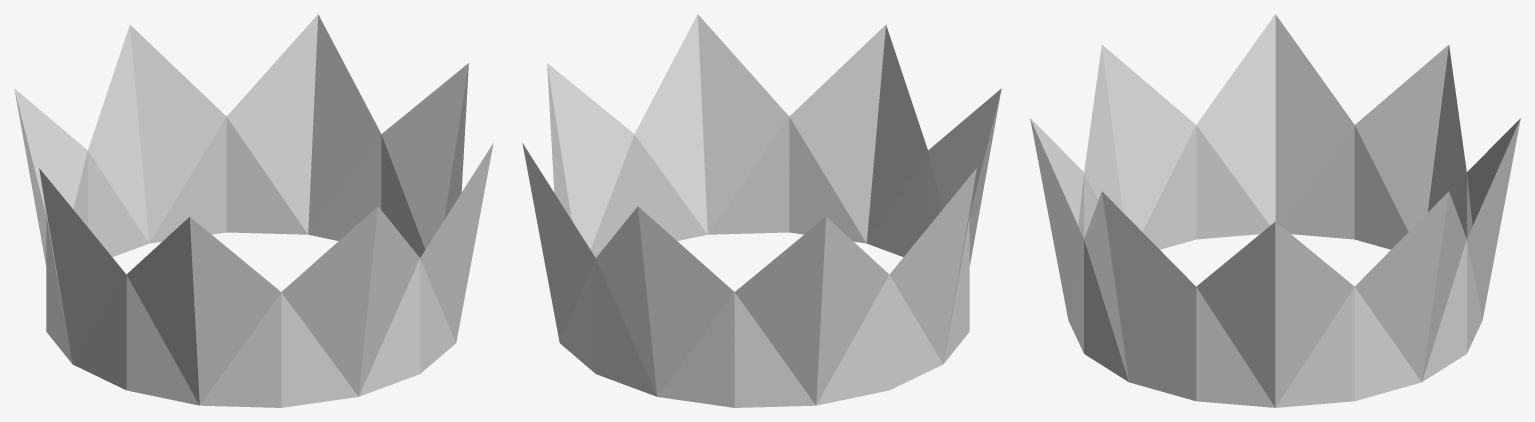
File: Crown.obj
3 views of the same model, side by side, from view 1: azimuth 30°, elevation 25°; view 2: azimuth 150°, elevation 25°; view 3: azimuth 270°, elevation 25° (orthographic).
Parts seen in each view (by area): view 1: 円柱; view 2: 円柱; view 3: 円柱.
Boxes of the visible parts, box(x1,y1,x2,y2) form: 円柱: box(14, 14, 493, 407); 円柱: box(522, 14, 1001, 407); 円柱: box(1030, 14, 1520, 407).
Size of the model in its own units: 1.18 by 0.5399 by 1.18.
